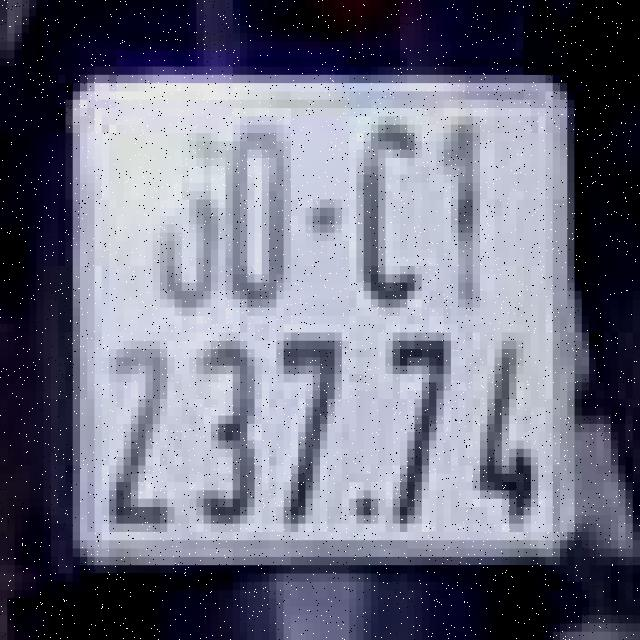0: (226, 112, 298, 320)
1: (444, 112, 487, 312)
2: (94, 337, 182, 536)
3: (186, 320, 266, 536)
4: (466, 316, 538, 532)
6: (135, 125, 229, 308)
7: (371, 316, 458, 532), (273, 328, 345, 536)
C: (342, 104, 436, 312)
